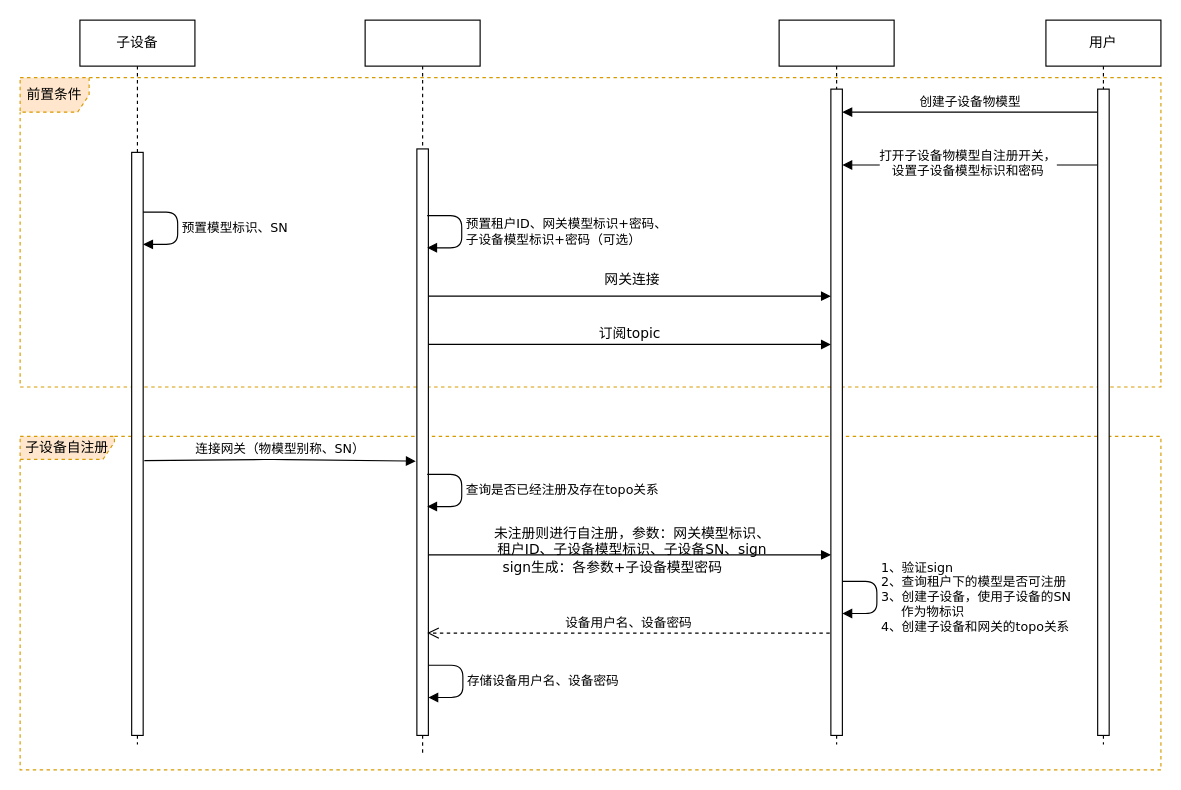
The diagram is 1181 pixels wide and 790 high, and some of its shapes have lost their labels. Here are the shapes that lost their labels. From the top down, the box of each, then its label:
(364, 19, 480, 756): 网关
(778, 19, 894, 745): 物联网云平台
